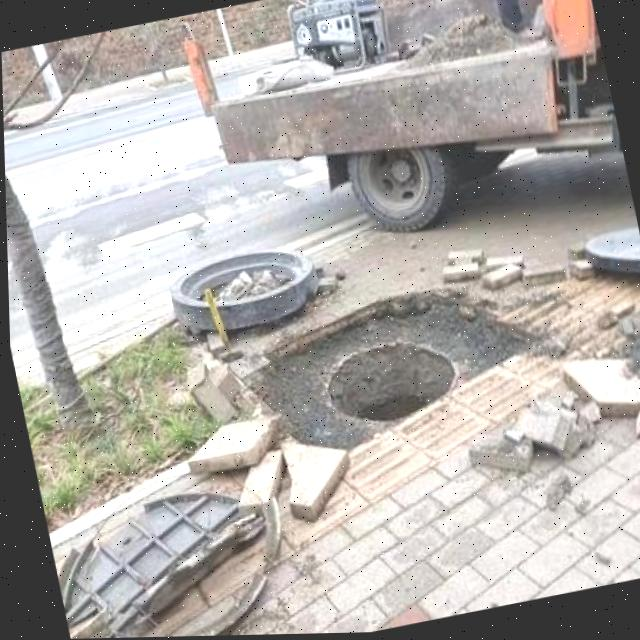manhole: (232, 279, 527, 470)
